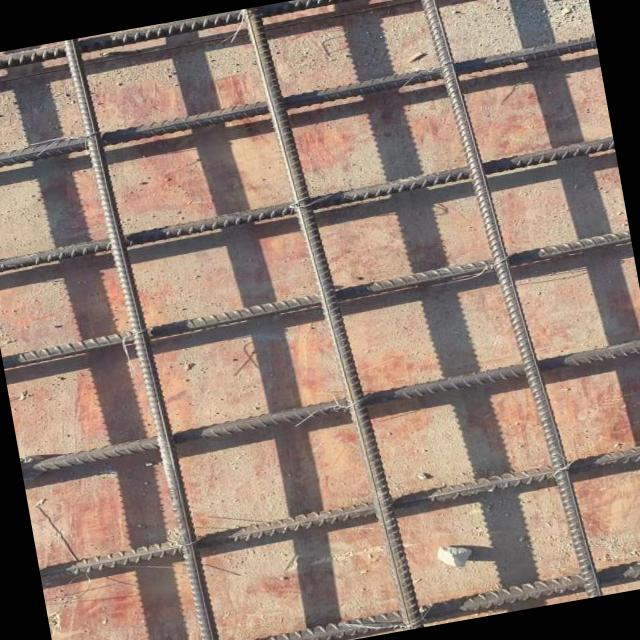ribbed bar: (237, 0, 425, 639), (413, 0, 607, 608), (62, 32, 220, 640), (36, 439, 640, 587), (0, 229, 633, 369), (19, 337, 640, 475), (0, 136, 616, 274), (0, 33, 598, 171), (56, 550, 640, 640), (0, 0, 582, 79)
